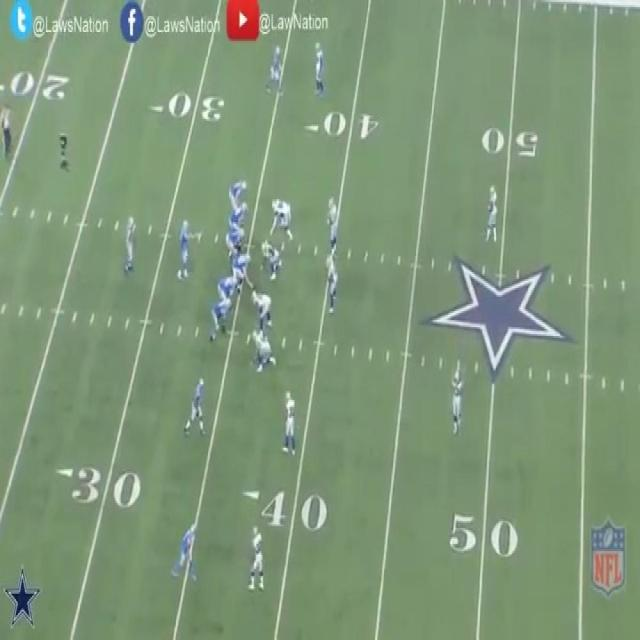center: (234, 254, 253, 284)
db: (282, 389, 298, 455), (250, 524, 264, 586), (312, 42, 327, 97), (451, 372, 463, 430), (487, 183, 498, 240)
lb: (324, 256, 339, 313), (327, 197, 341, 249)
qb: (178, 218, 192, 278)
